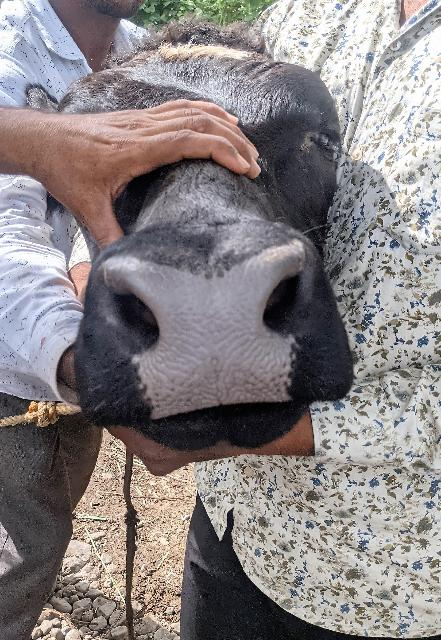Muzzle: (128, 266, 282, 398)
